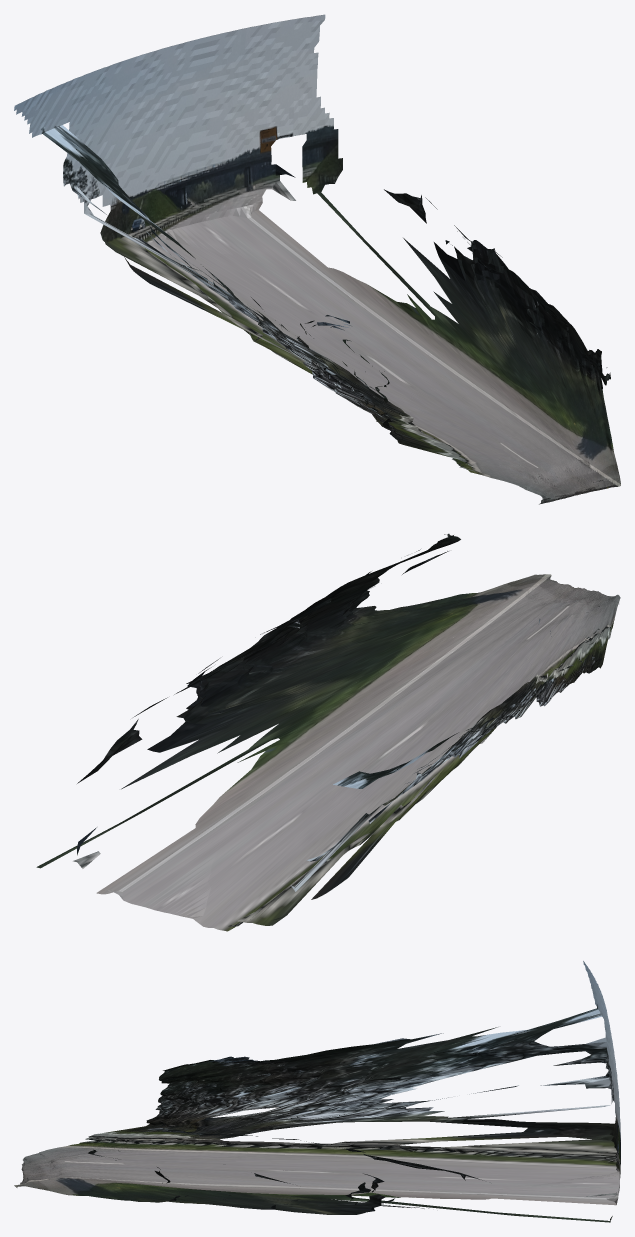
3 views of the same model, one above another, from view 1: azimuth 30°, elevation 25°; view 2: azimuth 150°, elevation 25°; view 3: azimuth 270°, elevation 25° (orthographic). The views are drawn at different scales.
Visible parts, largest first — view 1: defaultobject; view 2: defaultobject; view 3: defaultobject.
Boxes of the visible parts, x1,y1,x2,y2 form: defaultobject: (14, 14, 620, 504); defaultobject: (36, 533, 620, 931); defaultobject: (14, 961, 620, 1222).
Size of the model in its own units: 22.92 by 12.47 by 44.79.
Materials: 1 (1 with a texture image).
